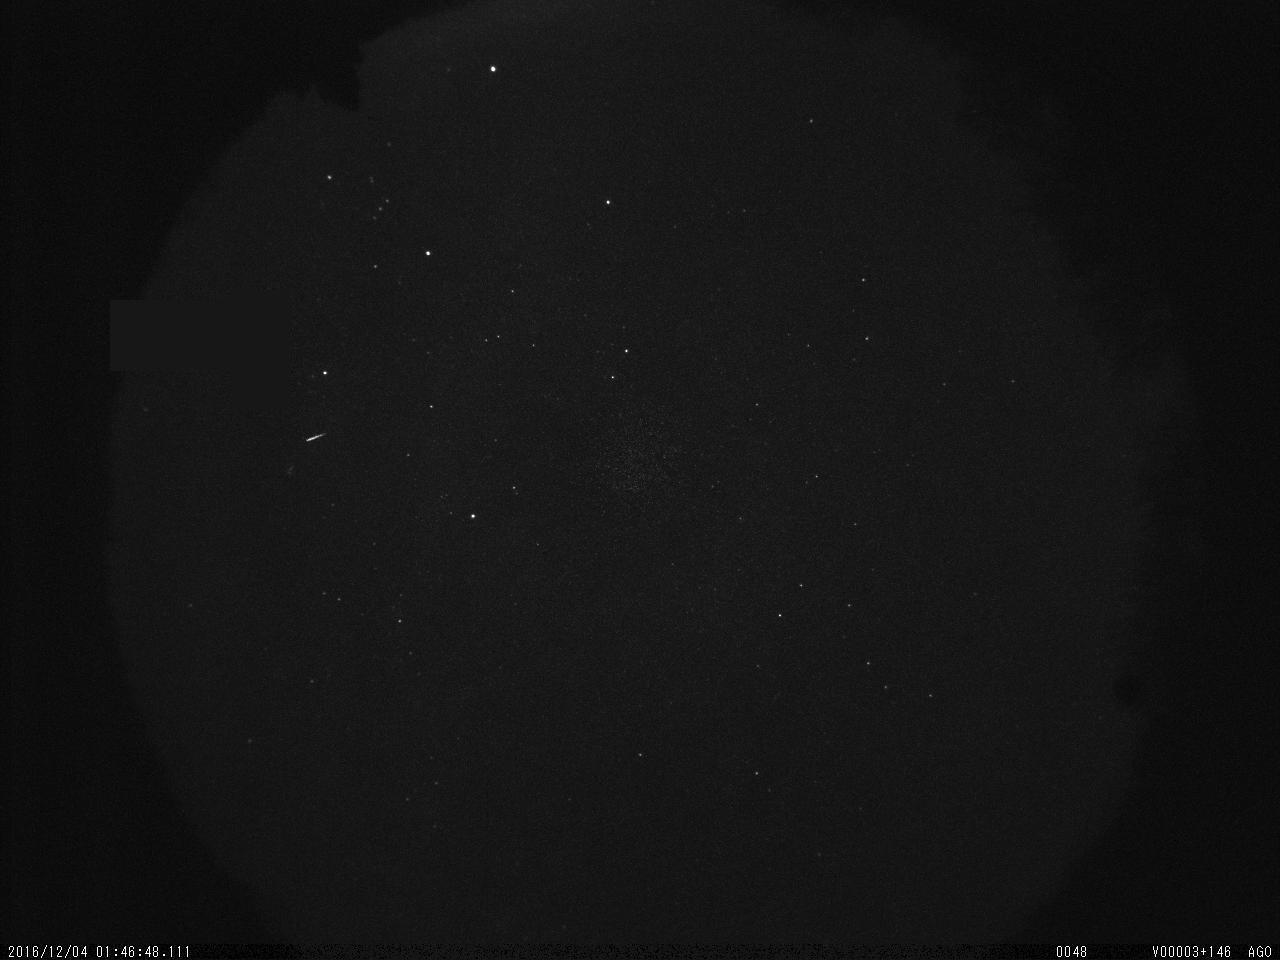meteor: (302, 430, 330, 448)
